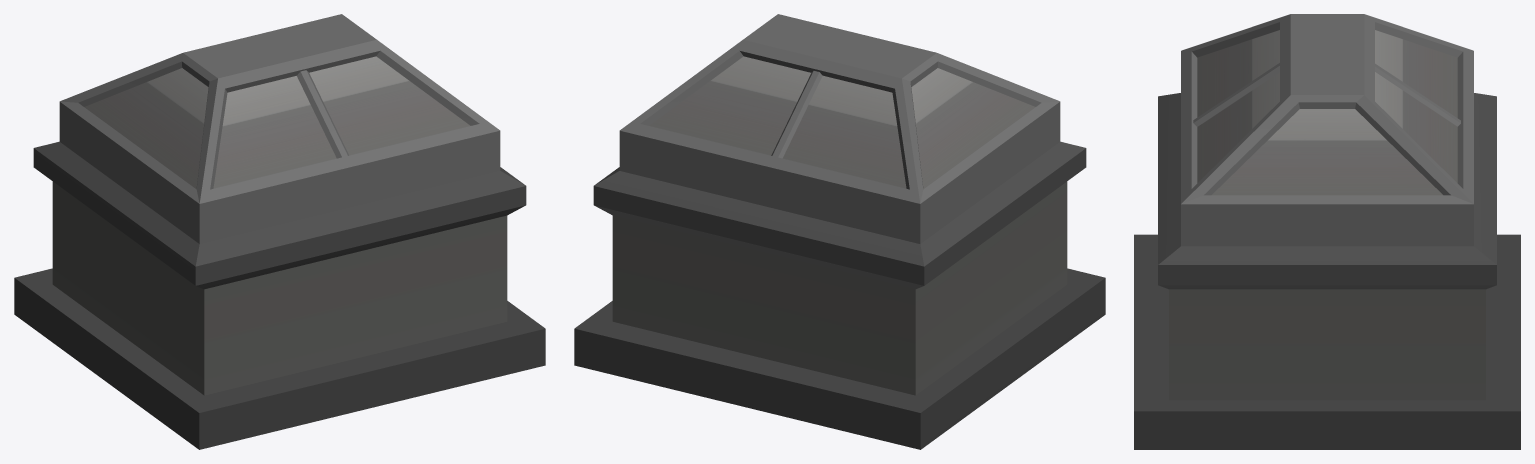
The model's file is RoofLights_1_B.fbx.
3 views of the same model, side by side, from view 1: azimuth 30°, elevation 25°; view 2: azimuth 150°, elevation 25°; view 3: azimuth 270°, elevation 25° (orthographic). The views are drawn at different scales.
Visible parts, largest first — view 1: RoofLights_1_B; view 2: RoofLights_1_B; view 3: RoofLights_1_B.
Boxes of the visible parts, box(x1,y1,x2,y2) form: RoofLights_1_B: box(14, 14, 545, 449); RoofLights_1_B: box(574, 14, 1105, 449); RoofLights_1_B: box(1134, 14, 1520, 449).
Bounding box in the file's own units: 107 × 86.65 × 98.88.
